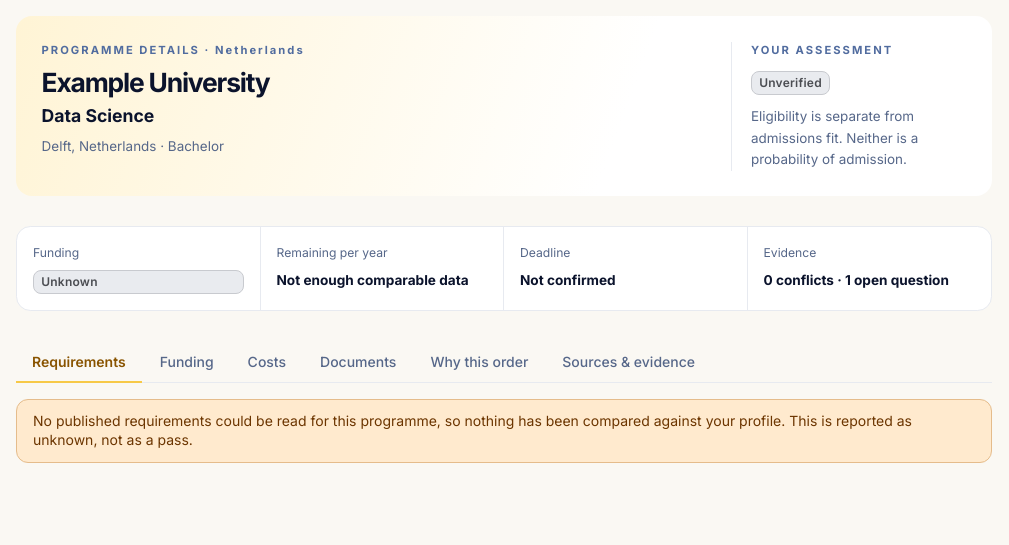
Test: the result detail in Kazakh and Russian › is unchanged in English
Expected: the tab with test id "tab-costs" reads "Costs", [232, 343, 302, 383]
Expected: the text "Unverified" is shown, [751, 71, 830, 95]
Click the tab with test id "tab-sources" at (629,363), box [546, 343, 711, 383]
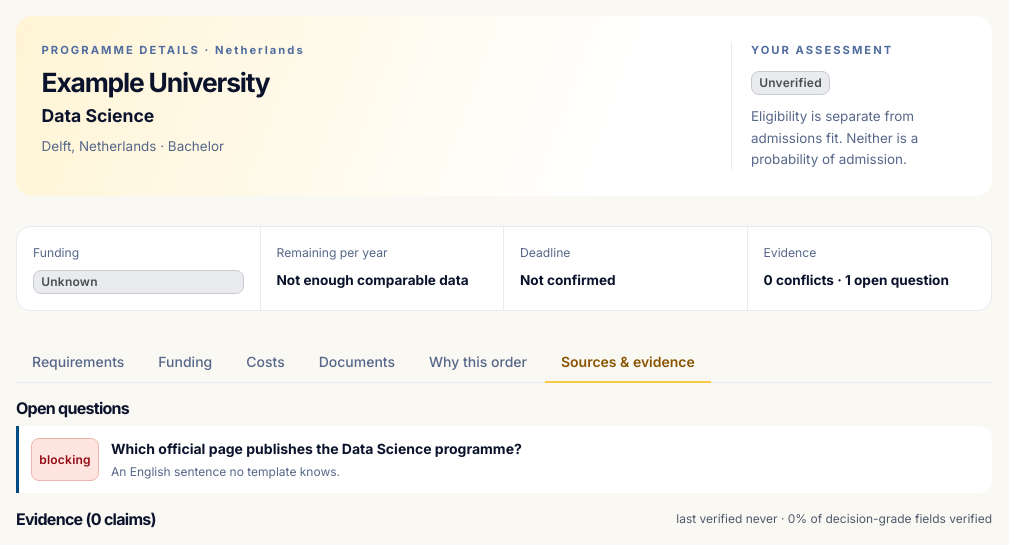
Expected: the text "Which official page publishes the Data Science programme?" is shown, [111, 440, 522, 457]
Expected: the text "blocking" is shown, [31, 438, 99, 481]
